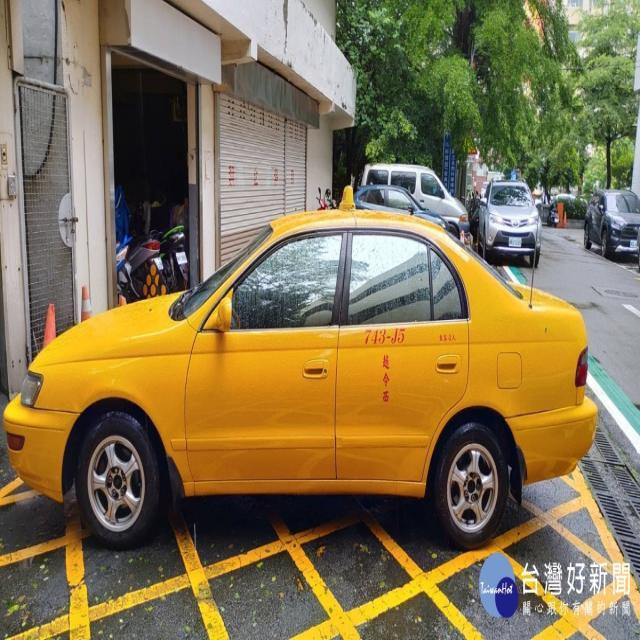taxi: (10, 169, 598, 537)
